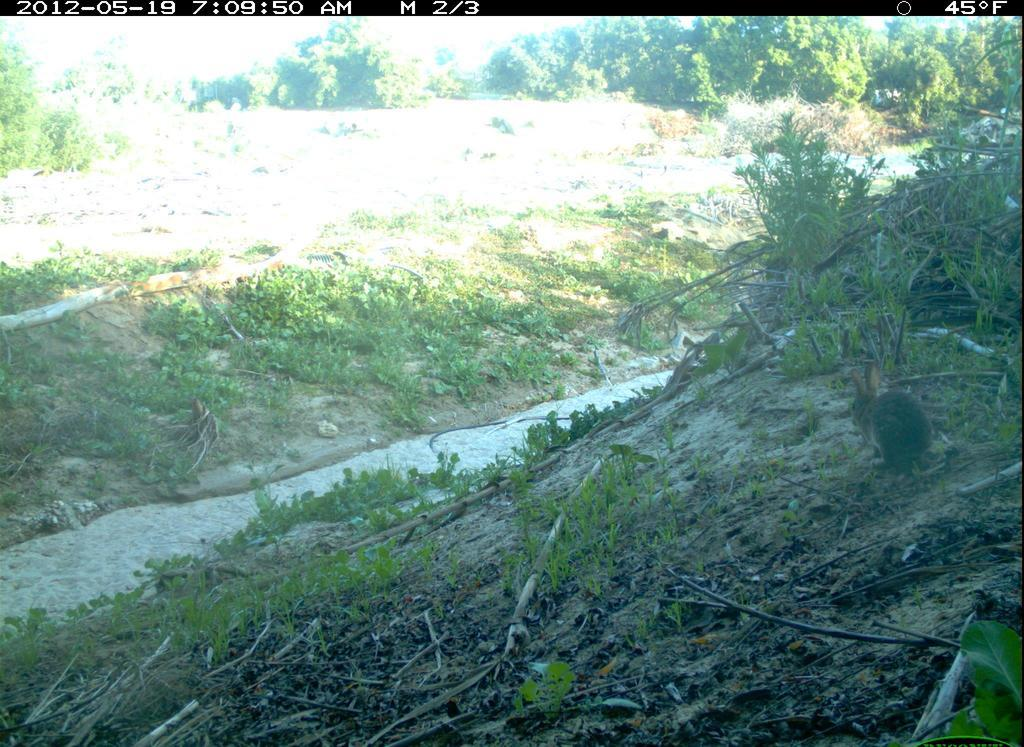rabbit: (845, 361, 941, 477)
